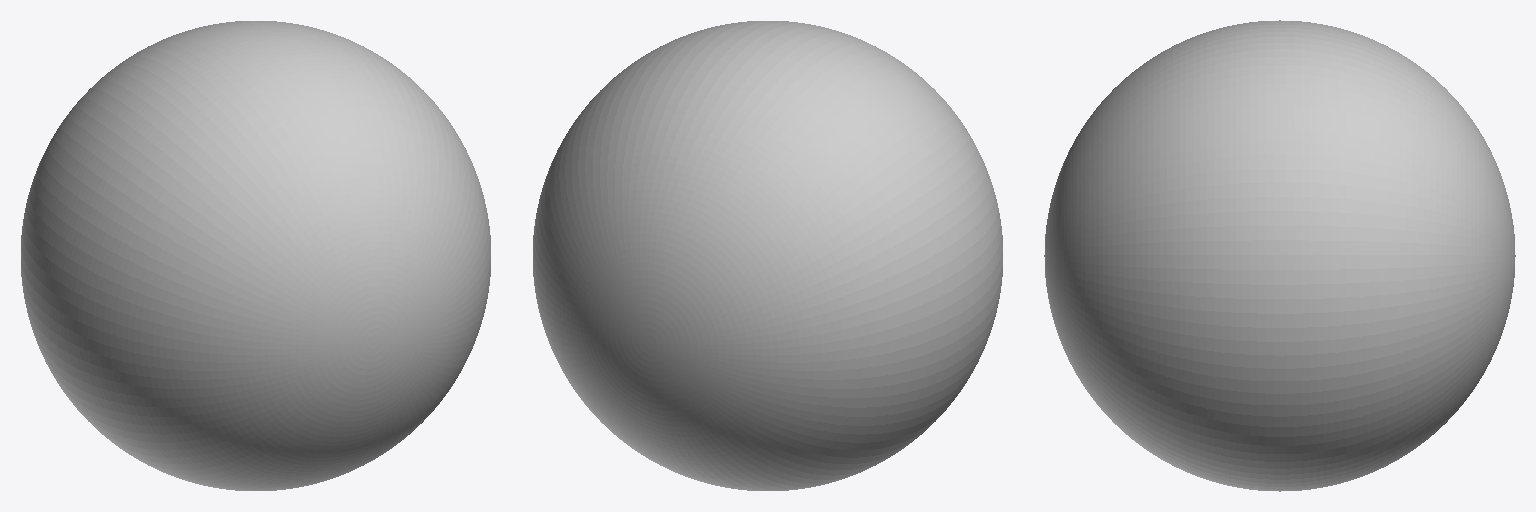
File: Mars.obj
3 views of the same model, side by side, from view 1: azimuth 30°, elevation 25°; view 2: azimuth 150°, elevation 25°; view 3: azimuth 270°, elevation 25° (orthographic).
Parts seen in each view (by area): view 1: node_id61; view 2: node_id61; view 3: node_id61.
Part boxes in pixels (x1,y1,x2,y2): node_id61: (21, 21, 490, 490); node_id61: (533, 21, 1002, 490); node_id61: (1044, 20, 1515, 491).
Size of the model in its own units: 0.0325 by 0.0325 by 0.0325.